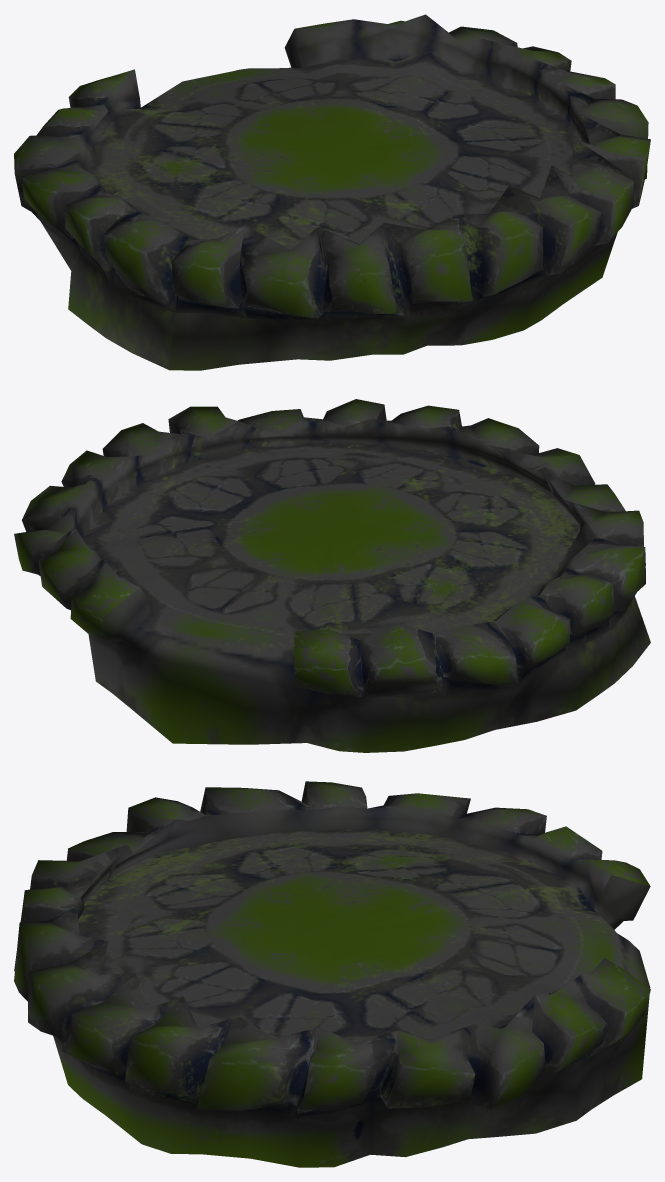
File: M_Spawn-area.fbx
3 views of the same model, one above another, from view 1: azimuth 30°, elevation 25°; view 2: azimuth 150°, elevation 25°; view 3: azimuth 270°, elevation 25° (orthographic). The views are drawn at different scales.
Parts seen in each view (by area): view 1: Spawn_Area_LP; view 2: Spawn_Area_LP; view 3: Spawn_Area_LP.
Part boxes in pixels (x1,y1,x2,y2): Spawn_Area_LP: [14, 14, 650, 370]; Spawn_Area_LP: [14, 399, 650, 752]; Spawn_Area_LP: [14, 781, 650, 1167].
Size of the model in its own units: 120 by 31.65 by 111.
1 material, 1 textured.
